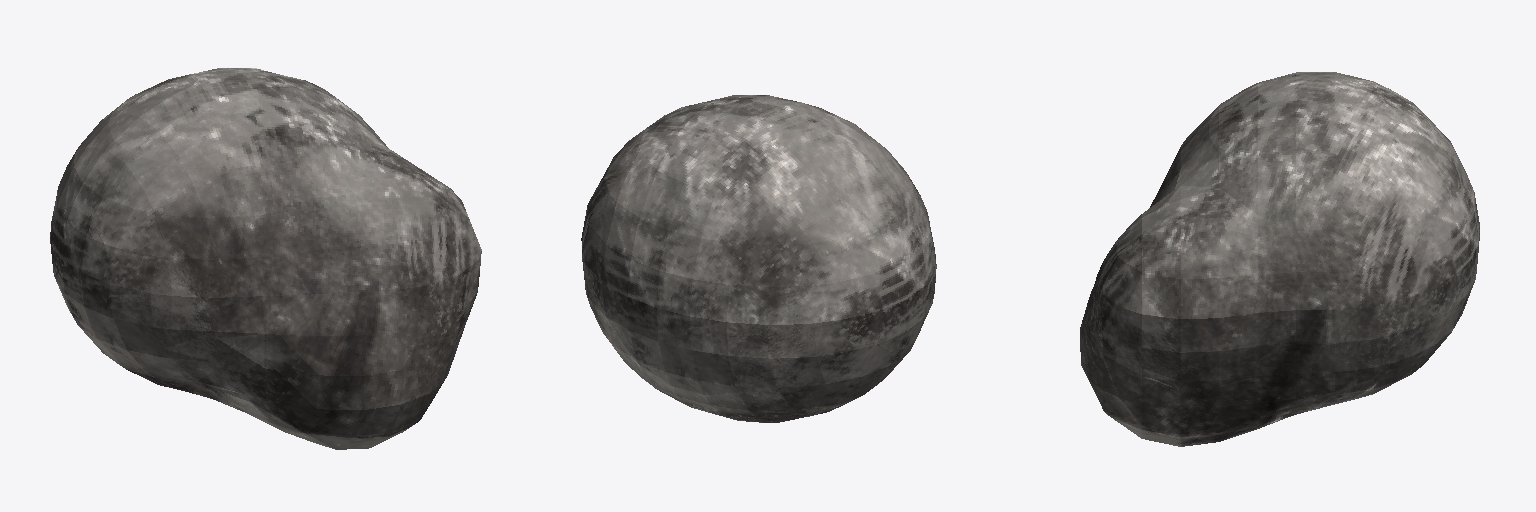
3 renders of one model, left to right at view 1: azimuth 30°, elevation 25°; view 2: azimuth 150°, elevation 25°; view 3: azimuth 270°, elevation 25°, orthographic.
Visible parts, largest first — view 1: Mball.000_Mesh.001_meshId0_name; view 2: Mball.000_Mesh.001_meshId0_name; view 3: Mball.000_Mesh.001_meshId0_name.
Part boxes in pixels (bbox=[...]): Mball.000_Mesh.001_meshId0_name: bbox=[50, 68, 481, 449]; Mball.000_Mesh.001_meshId0_name: bbox=[581, 95, 936, 422]; Mball.000_Mesh.001_meshId0_name: bbox=[1080, 72, 1479, 446].
Bounding box in the file's own units: 0.45 × 0.4122 × 0.4667.
Materials: 1 (1 with a texture image).